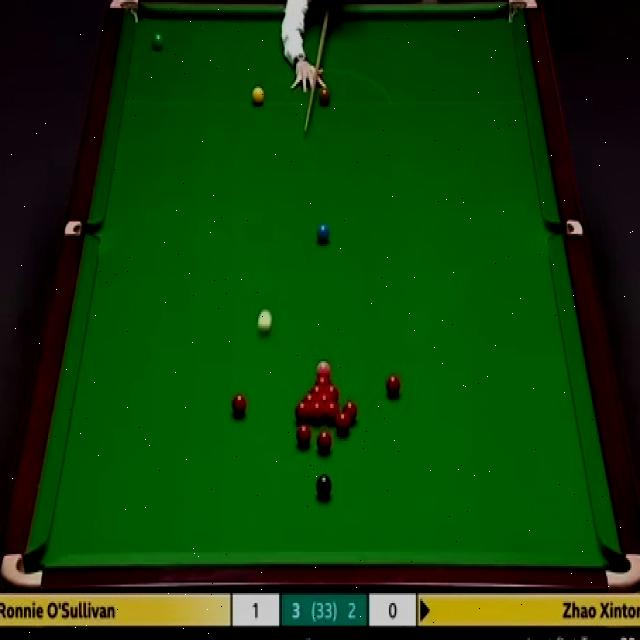black-ball: (316, 474, 333, 500)
blue-ball: (316, 224, 330, 244)
brown-ball: (318, 88, 331, 106)
green-ball: (152, 33, 164, 51)
pink-ball: (316, 359, 330, 372)
red-ball: (229, 394, 247, 419), (296, 424, 313, 448), (386, 374, 400, 400), (317, 430, 332, 454), (342, 401, 357, 424), (294, 401, 309, 423), (325, 402, 340, 424), (336, 413, 350, 436), (310, 400, 324, 422), (326, 383, 339, 400), (313, 373, 331, 383), (302, 393, 317, 402), (309, 384, 324, 393), (316, 393, 332, 401)
white-ball: (256, 307, 271, 334)
yellow-ball: (251, 87, 264, 106)
